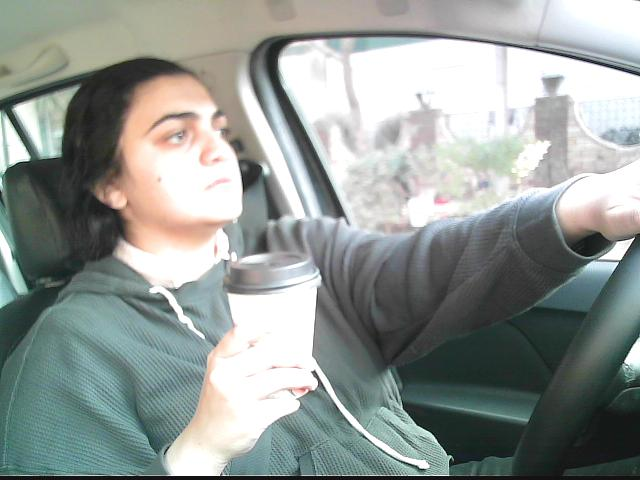Drinking: (223, 247, 325, 404)
